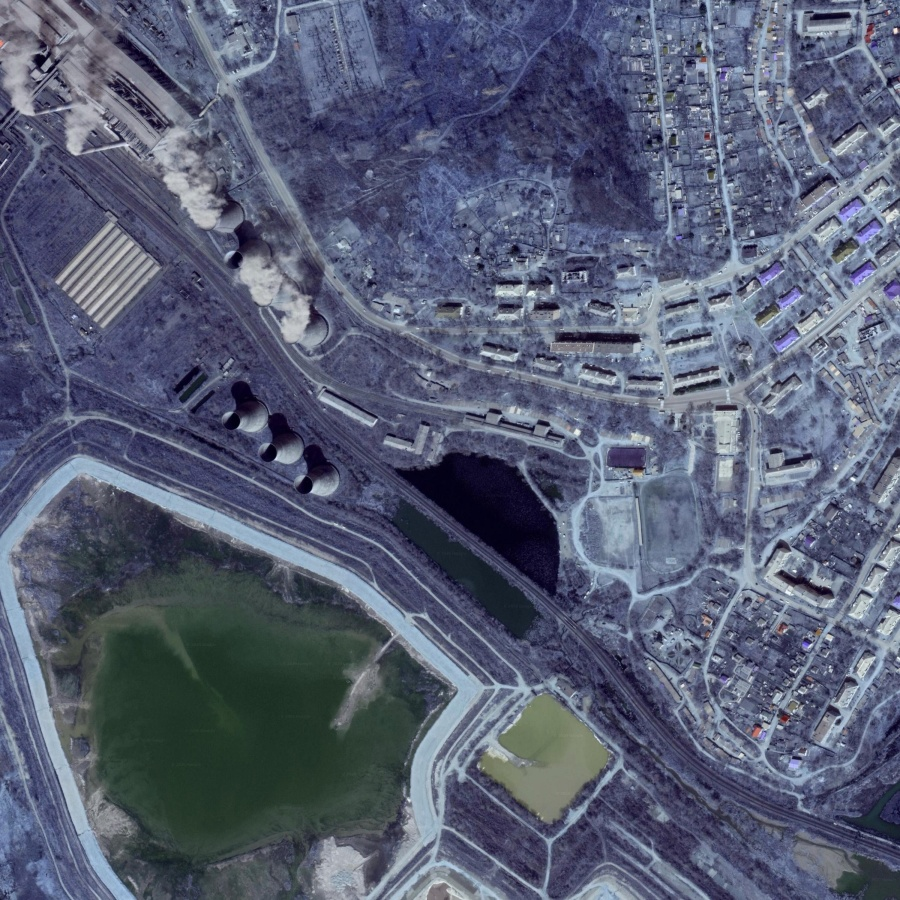PowerPlant: (160, 136, 374, 509)
